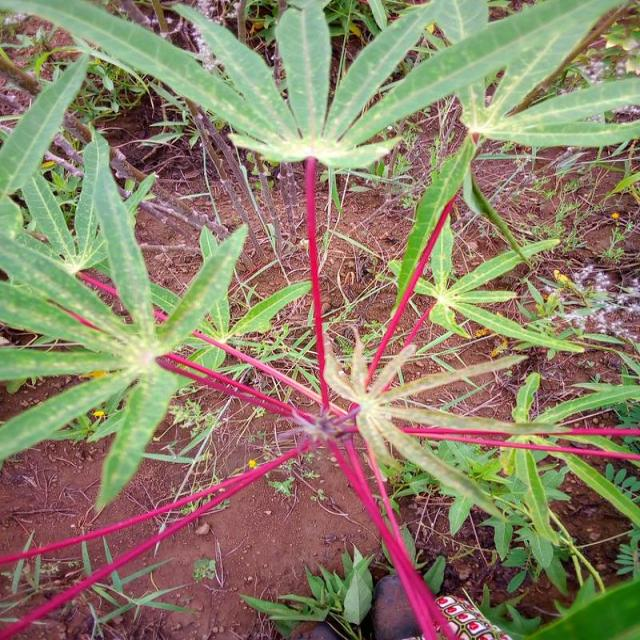cassava leaf: (1, 1, 638, 635), (0, 129, 249, 513)
